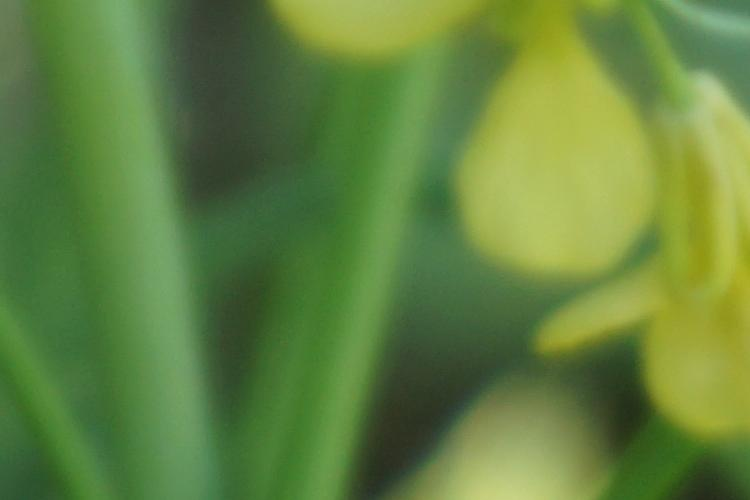yellow: (284, 1, 650, 274), (565, 71, 750, 426)
